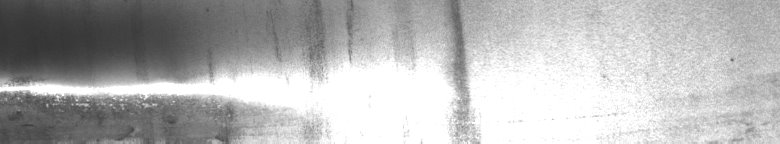ke: (4, 4, 353, 136)
